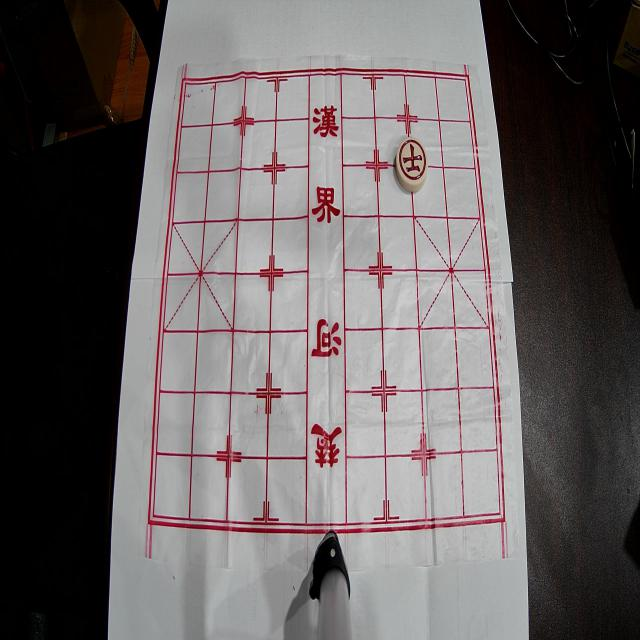red-guard: (396, 137, 428, 191)
